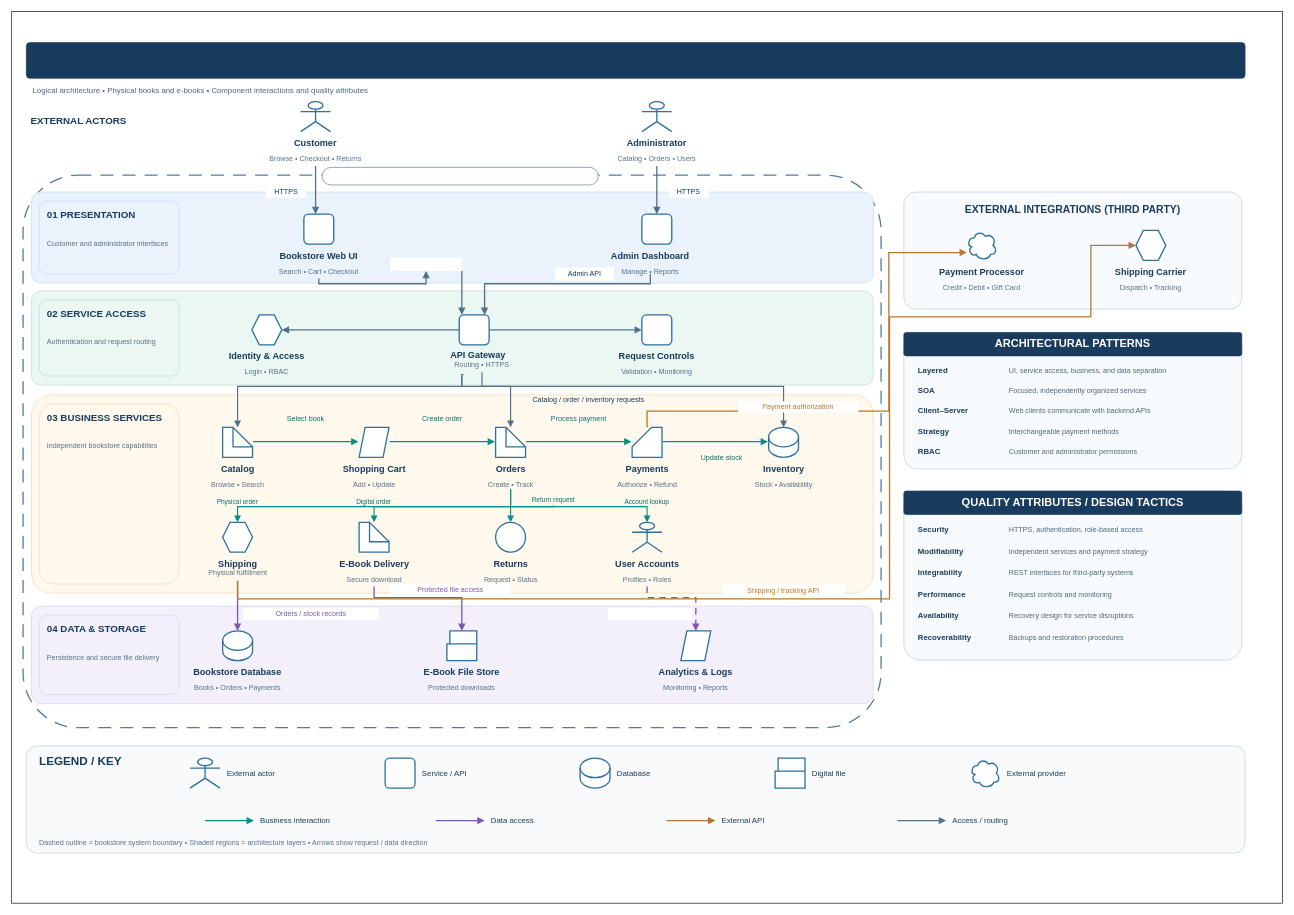
The diagram is 1294 pixels wide and 915 high, and some of its shapes have lost their labels. Each missing label, with the centre of its shape:
"Audit events" belongs at (650,613).
"BOOKSTORE SYSTEM | HIGH-LEVEL SERVICE-ORIENTED ARCHITECTURE" belongs at (635,60).
"ONLINE BOOKSTORE — SYSTEM BOUNDARY" belongs at (459,176).
"REST / JSON" belongs at (426,264).
